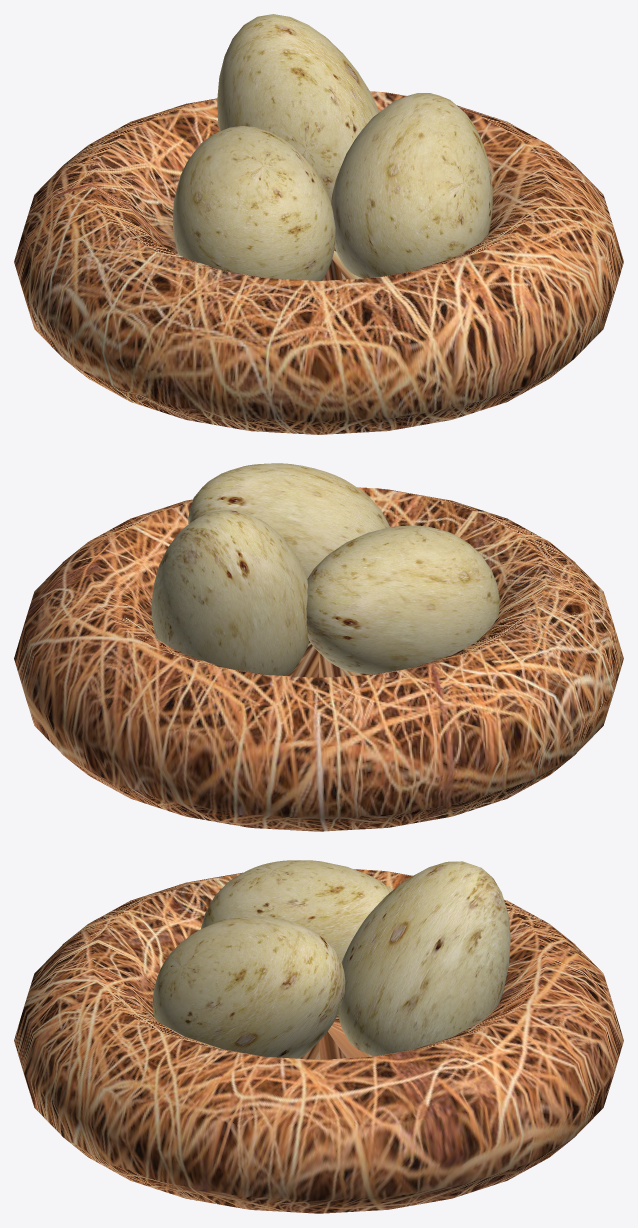
File: N_NEst remake.FBX
3 views of the same model, one above another, from view 1: azimuth 30°, elevation 25°; view 2: azimuth 150°, elevation 25°; view 3: azimuth 270°, elevation 25° (orthographic).
Visible parts, largest first — view 1: Object001, N_Net; view 2: Object001, N_Net; view 3: Object001, N_Net.
Part boxes in pixels (x1=…): Object001: x1=14, y1=91, x2=623, y2=434; N_Net: x1=173, y1=14, x2=492, y2=280; Object001: x1=14, y1=487, x2=623, y2=831; N_Net: x1=151, y1=463, x2=499, y2=675; Object001: x1=14, y1=869, x2=623, y2=1213; N_Net: x1=152, y1=860, x2=510, y2=1058.
Size of the model in its own units: 26.17 by 12.17 by 26.17.
Materials: 2 (2 with a texture image).
